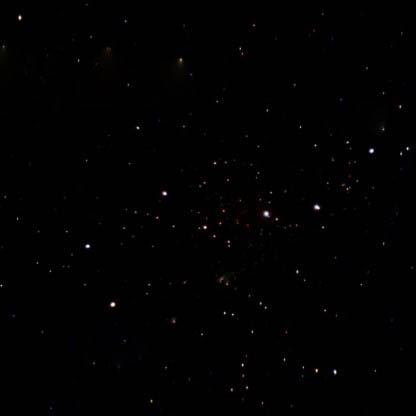Ursa Major: (251, 201, 280, 226), (363, 134, 386, 162), (303, 194, 327, 220), (76, 233, 98, 259), (194, 215, 214, 241), (156, 181, 177, 205), (104, 294, 123, 316)
